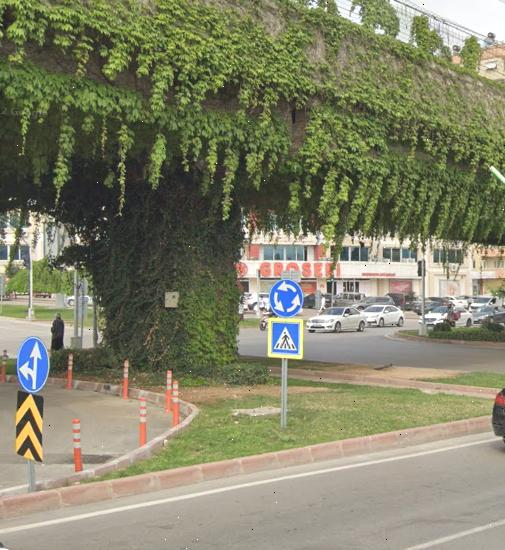crossroads: (270, 278, 302, 318)
